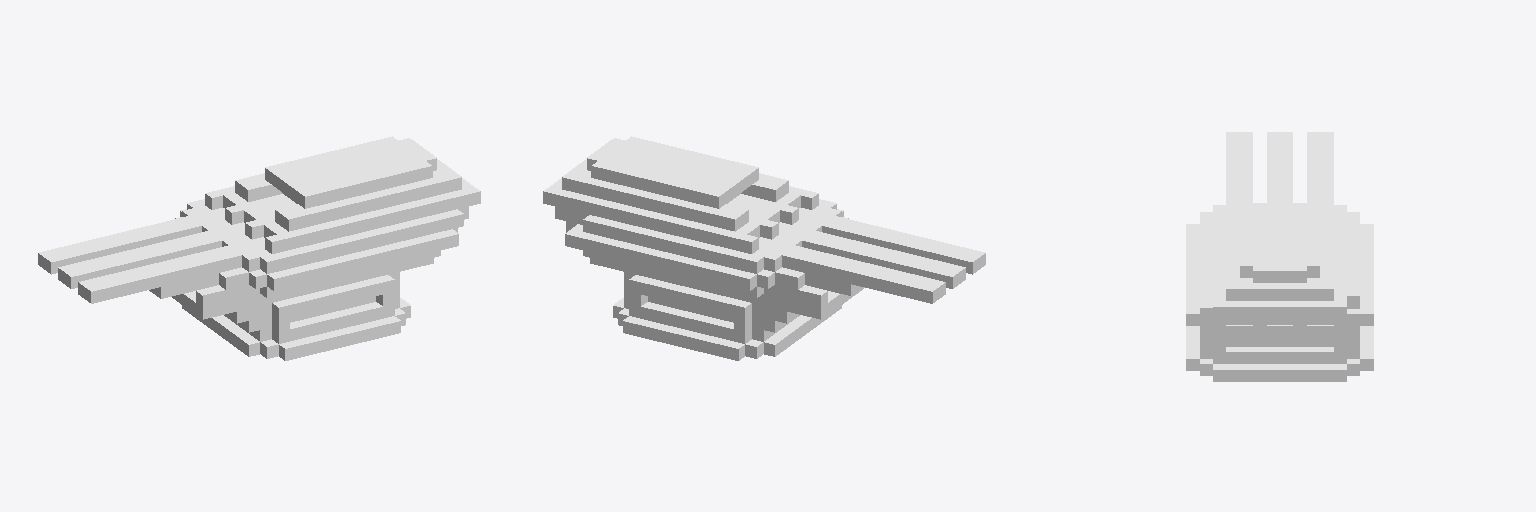
File: turret.vox.obj
The picture shows the model from 3 angles: view 1: azimuth 30°, elevation 25°; view 2: azimuth 150°, elevation 25°; view 3: azimuth 270°, elevation 25°; orthographic projection.
Parts seen in each view (by area): view 1: object 1; view 2: object 1; view 3: object 1.
Boxes of the visible parts, box(x1,y1,x2,y2) form: object 1: box(38, 136, 480, 360); object 1: box(543, 136, 985, 360); object 1: box(1186, 132, 1373, 381).
Bounding box in the file's own units: 3.3 × 1.1 × 1.4.